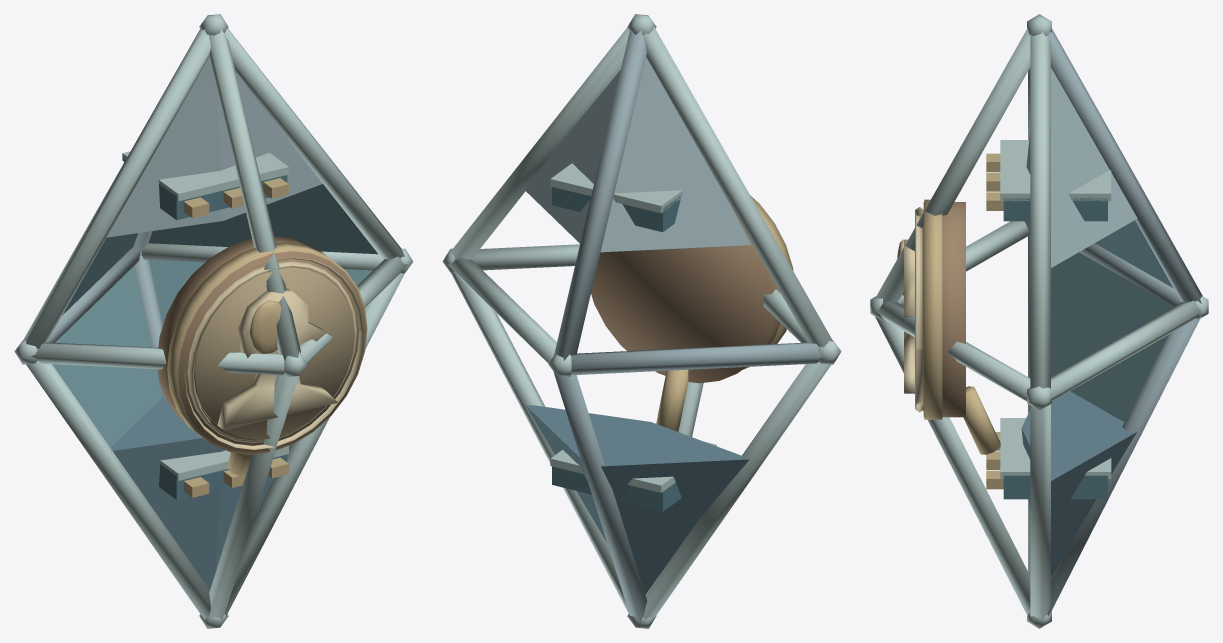
The model's file is ART-27.glb.
The picture shows the model from 3 angles, left to right: view 1: azimuth 30°, elevation 25°; view 2: azimuth 150°, elevation 25°; view 3: azimuth 270°, elevation 25°; orthographic projection.
Visible parts, largest first — view 1: world; view 2: world; view 3: world.
Part boxes in pixels (<box>): world: <box>14,14,413,628</box>; world: <box>442,14,841,628</box>; world: <box>870,14,1208,628</box>.
Size of the model in its own units: 1.34 by 2 by 1.01.
